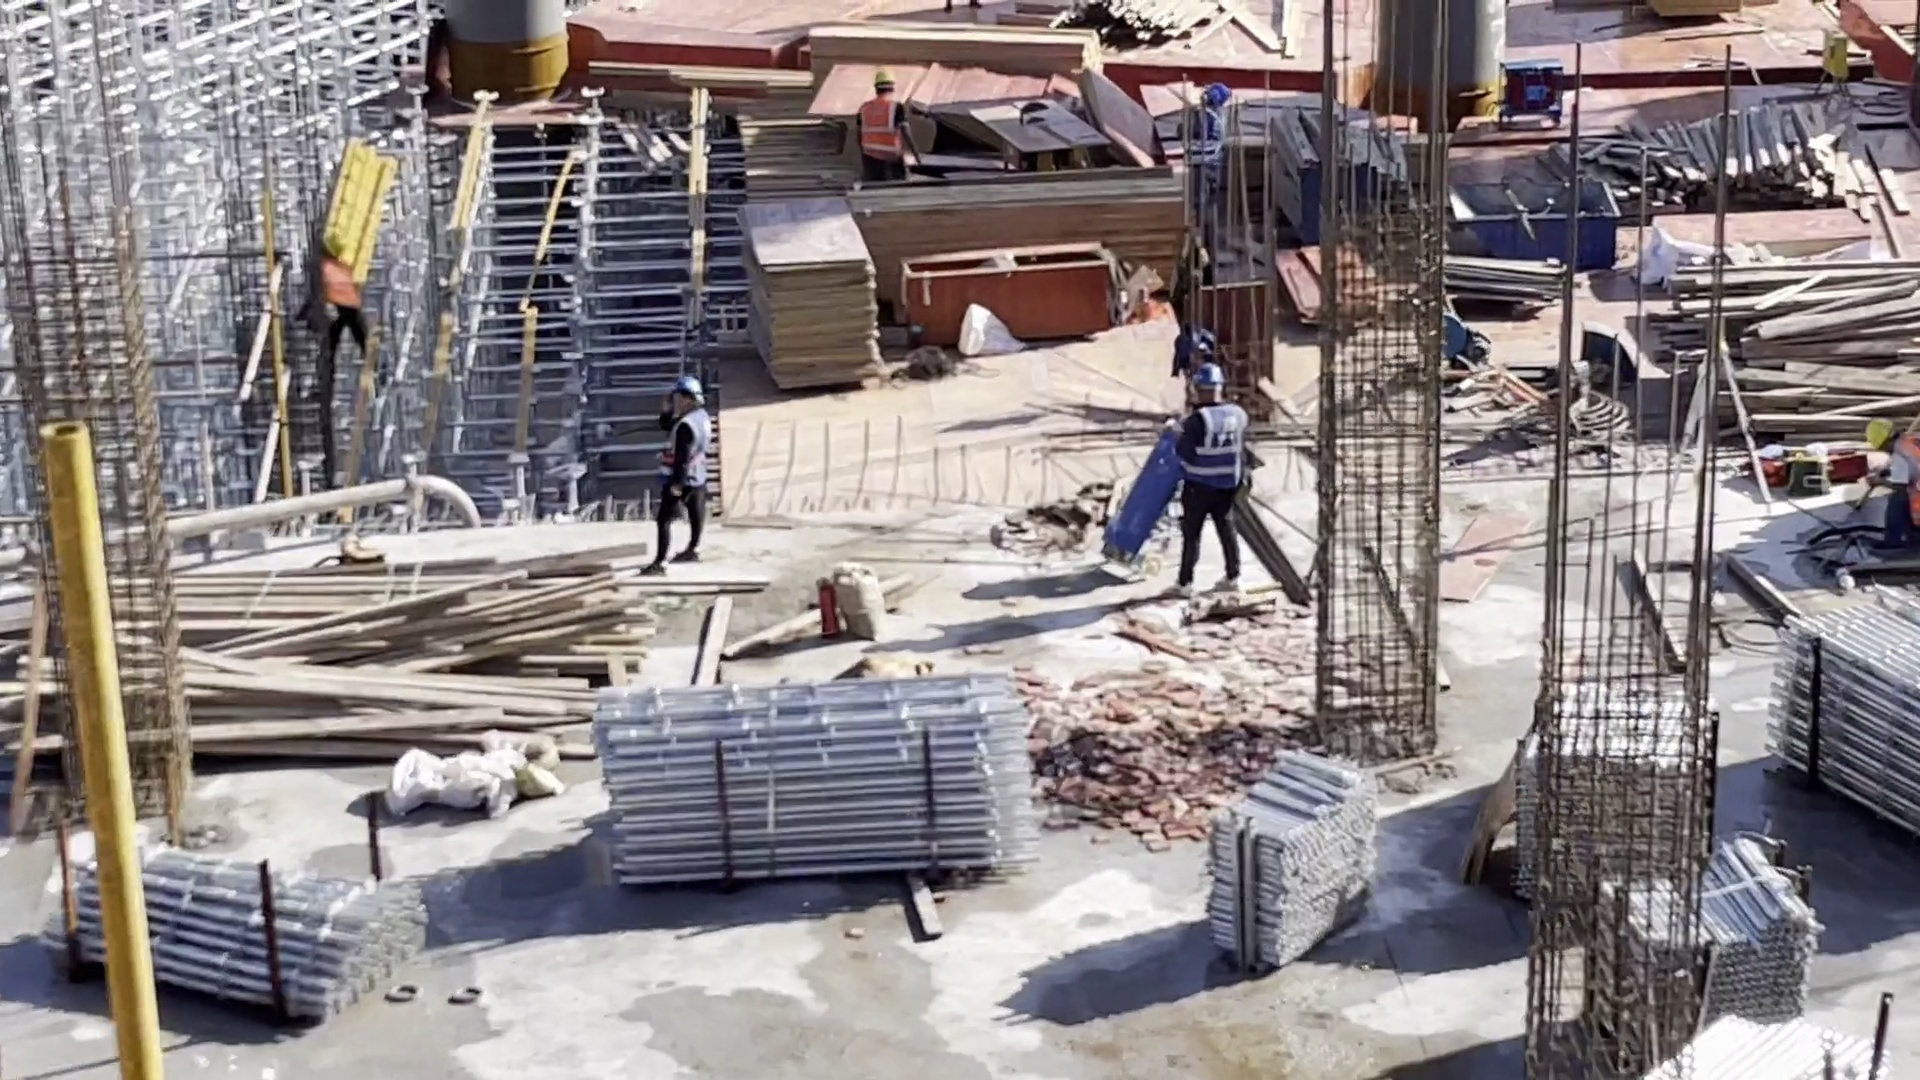board: (732, 197, 884, 405), (809, 56, 1131, 133)
ebox: (1817, 31, 1854, 76)
helmet: (1189, 360, 1226, 390), (667, 375, 700, 401), (1870, 420, 1898, 446), (869, 71, 895, 87), (1202, 90, 1229, 101)
hopper: (1445, 183, 1620, 272)
person: (1184, 360, 1249, 583), (654, 374, 721, 565), (314, 228, 375, 368), (851, 71, 915, 193), (1180, 87, 1232, 230), (1865, 413, 1920, 536)
scaffold: (1515, 668, 1890, 1080), (596, 671, 1032, 883), (46, 823, 429, 1024), (1763, 581, 1920, 842), (1207, 745, 1380, 967)
vest: (1191, 406, 1244, 484), (667, 409, 711, 487), (859, 97, 902, 157), (1183, 112, 1226, 169), (1896, 435, 1920, 526), (321, 257, 358, 309)
wood: (39, 555, 643, 768), (1665, 256, 1920, 439), (1554, 108, 1902, 216), (857, 176, 1180, 275), (804, 20, 1095, 83)
